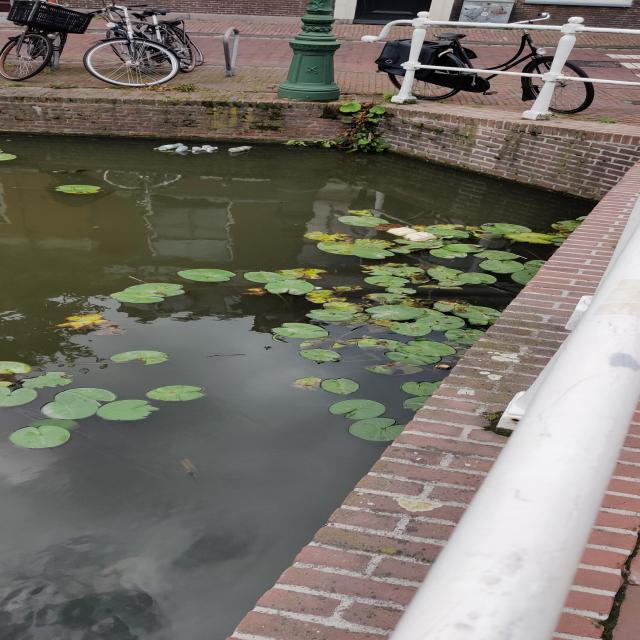litter: (385, 225, 441, 243), (151, 143, 190, 156), (226, 145, 254, 153), (191, 144, 219, 152)
